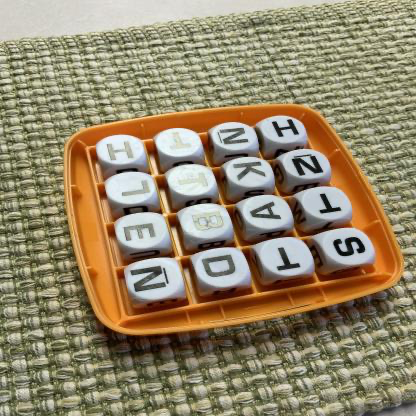a: (244, 196, 292, 230)
b: (181, 205, 233, 239)
d: (196, 249, 249, 288)
e: (117, 214, 168, 250)
h: (98, 136, 143, 165), (262, 117, 305, 144)
k: (227, 158, 274, 188)
l: (107, 174, 156, 205)
n: (127, 260, 183, 301), (285, 150, 332, 180), (213, 124, 257, 151)
s: (324, 229, 376, 266)
t: (261, 239, 314, 277), (303, 188, 353, 220), (169, 165, 217, 196), (158, 129, 202, 158)
